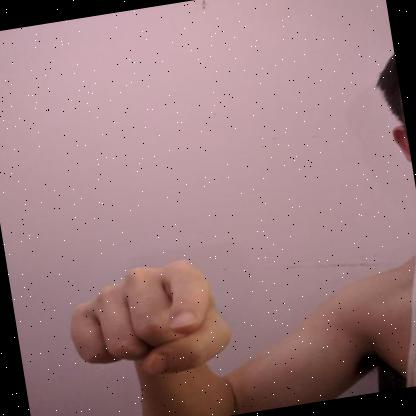Z: (70, 259, 230, 374)
